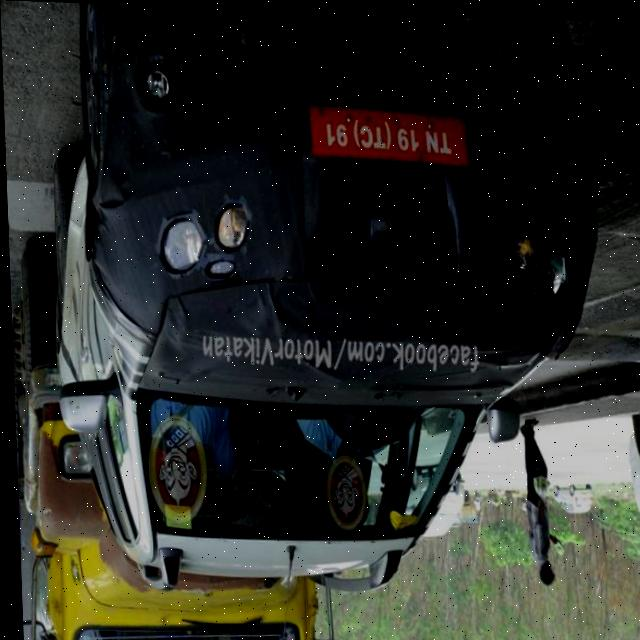plate: (307, 102, 471, 166)
